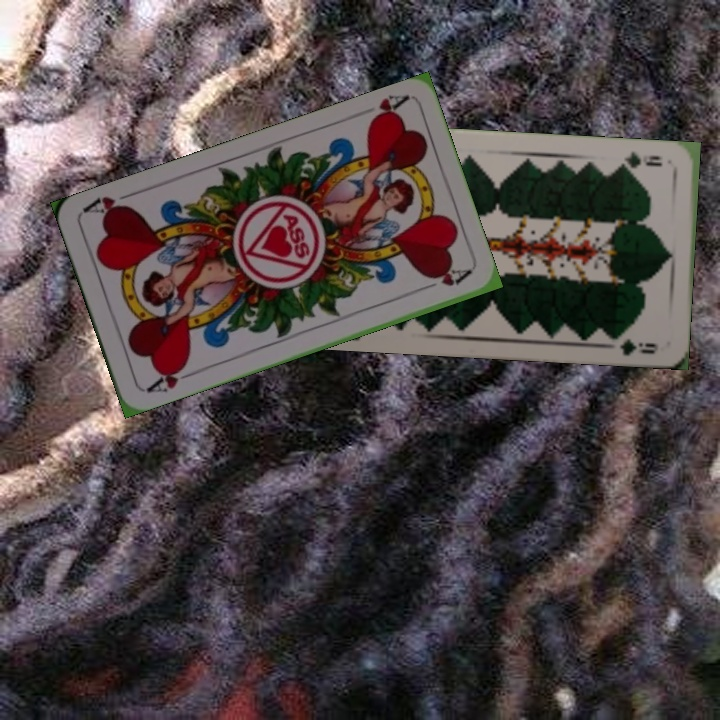G9: (614, 147, 665, 172)
HA: (141, 359, 199, 396), (363, 90, 410, 128)
